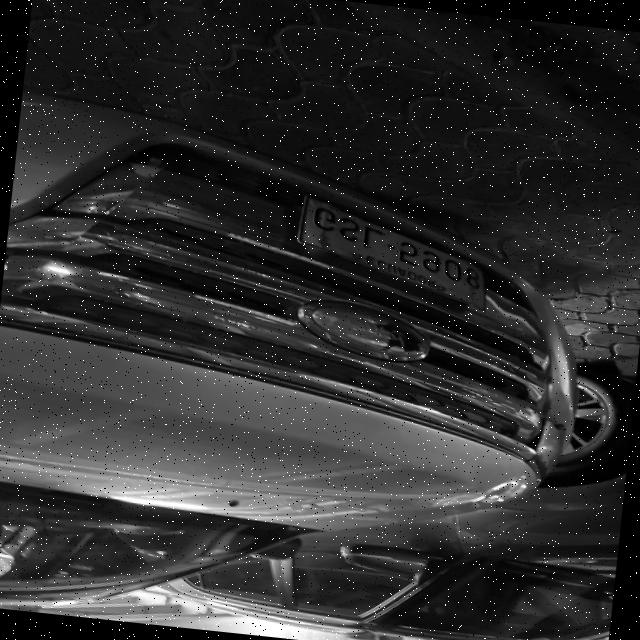Placa: (299, 197, 485, 308)
